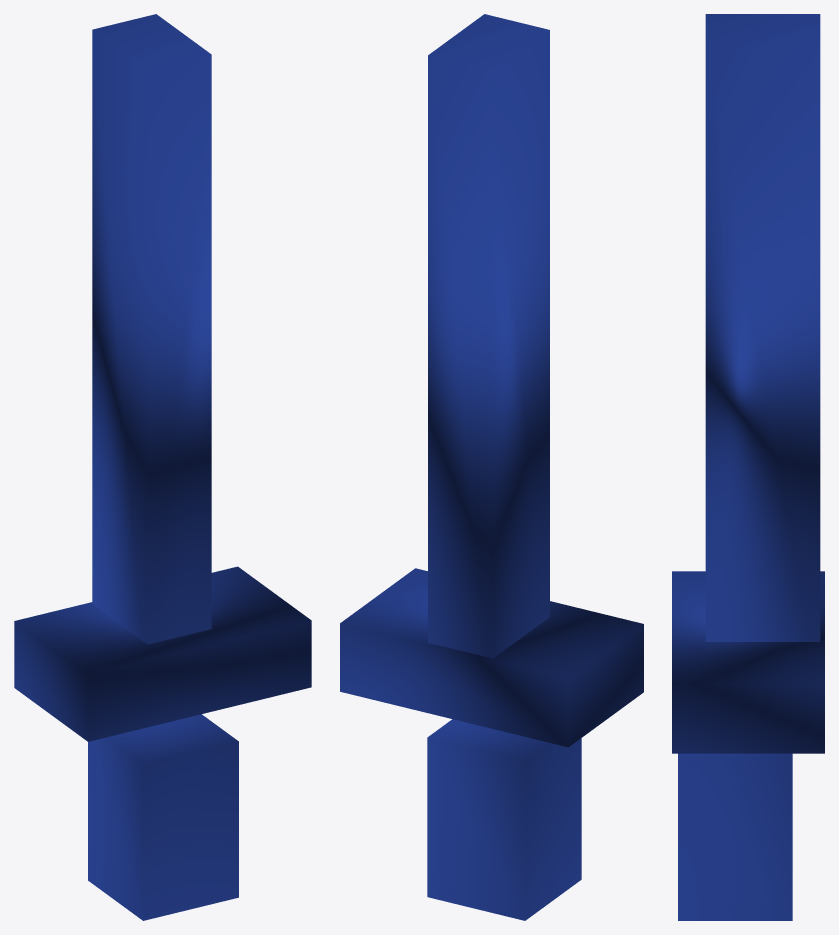
File: ps2_jrpg_sword.obj
The picture shows the model from 3 angles, left to right: view 1: azimuth 30°, elevation 25°; view 2: azimuth 150°, elevation 25°; view 3: azimuth 270°, elevation 25°; orthographic projection. The views are drawn at different scales.
Size of the model in its own units: 0.42 by 1.5 by 0.24.
